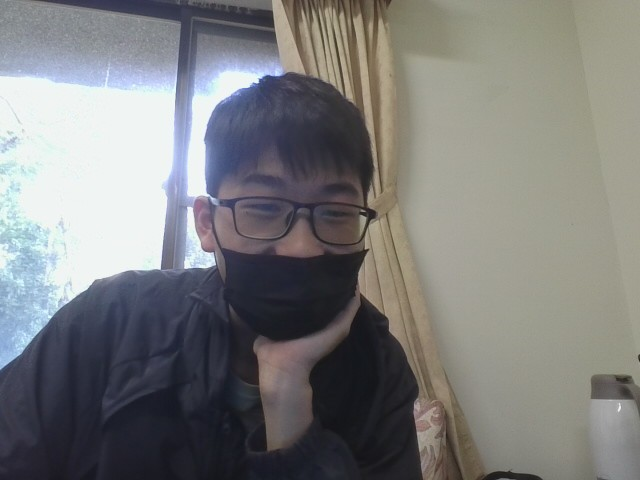No_Helmet: (198, 68, 381, 259)
person: (0, 57, 482, 479)
